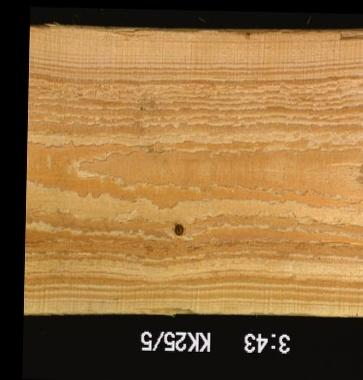dry_knot: (171, 222, 184, 236)
wave: (28, 24, 288, 34), (131, 307, 200, 313)
